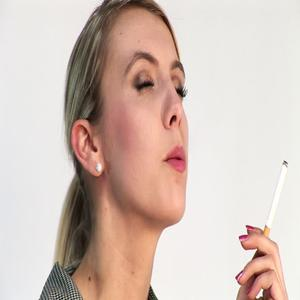cigarette: (253, 154, 288, 258)
